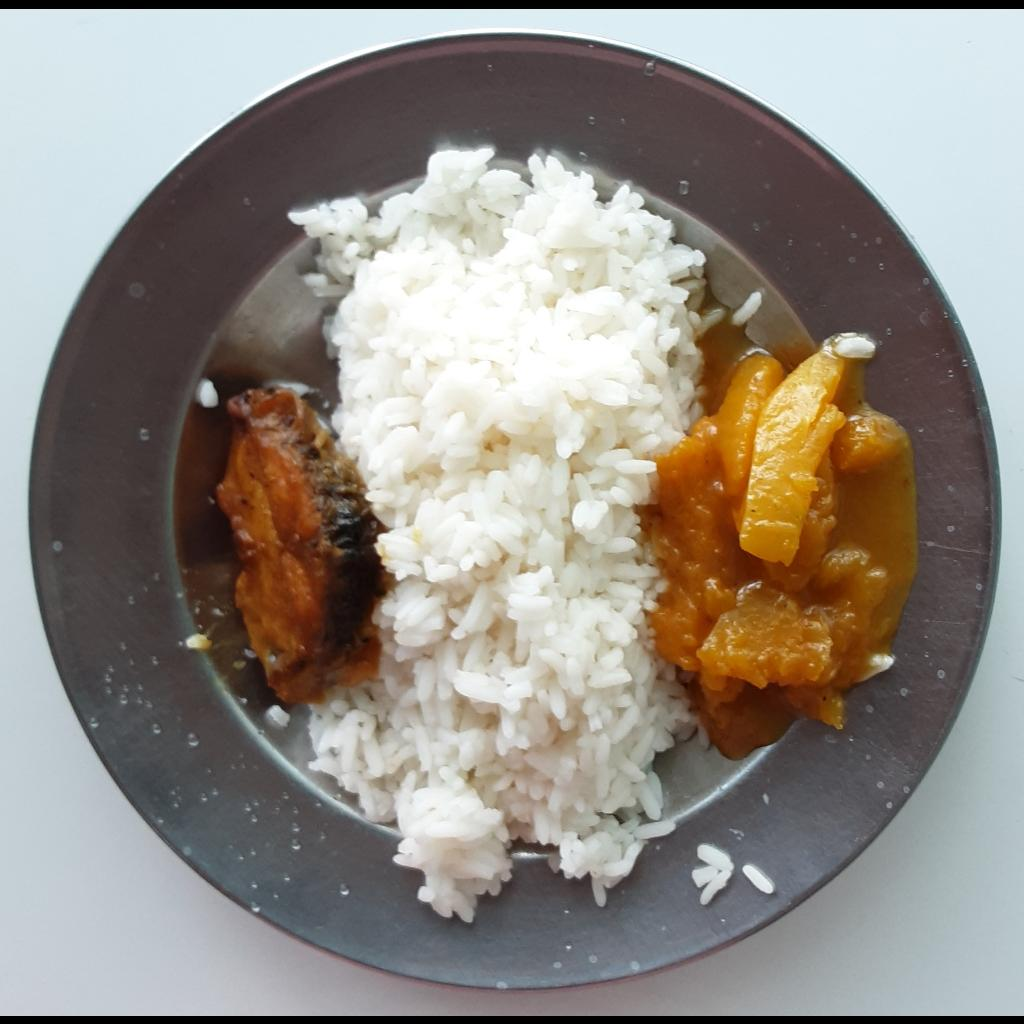fish: (211, 387, 392, 699)
kumra-vaji: (645, 331, 919, 761)
rice: (287, 145, 768, 924), (262, 696, 298, 731)
